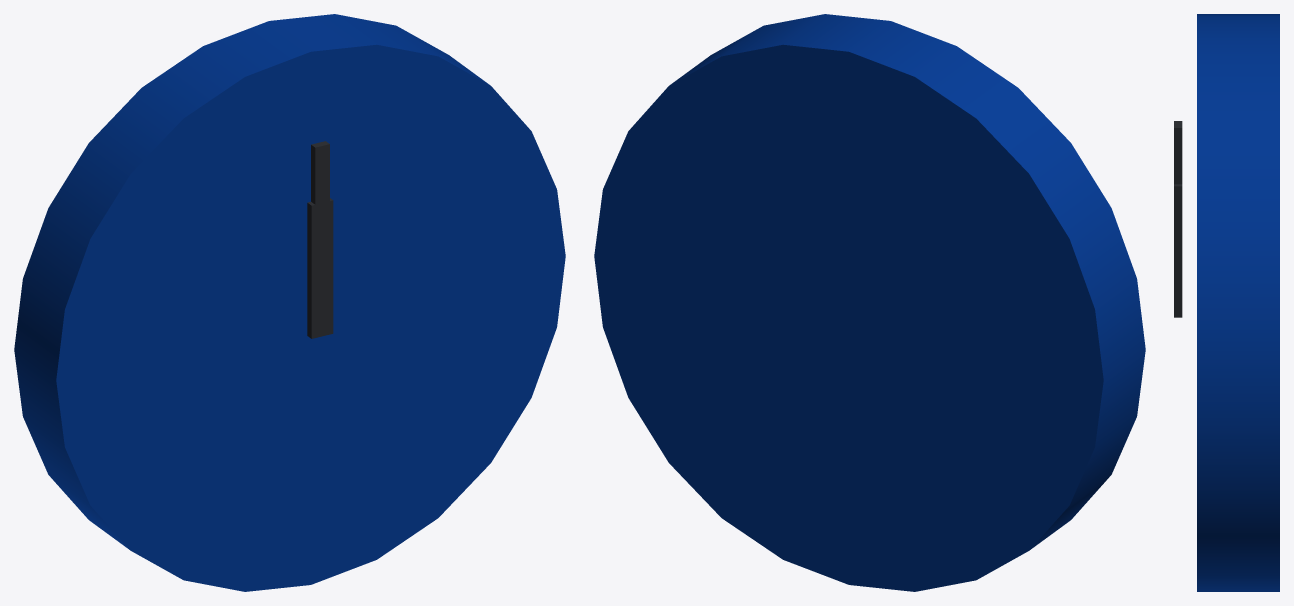
The model's file is SM_Reloj.fbx.
3 views of the same model, side by side, from view 1: azimuth 30°, elevation 25°; view 2: azimuth 150°, elevation 25°; view 3: azimuth 270°, elevation 25° (orthographic).
Visible parts, largest first — view 1: SM_Reloj, SM_Reloj_Aguja_Hora, SM_Reloj_Aguja_Minutos; view 2: SM_Reloj; view 3: SM_Reloj, SM_Reloj_Aguja_Hora, SM_Reloj_Aguja_Minutos.
Boxes of the visible parts, x1,y1,x2,y2 form: SM_Reloj: [14, 14, 565, 591]; SM_Reloj_Aguja_Hora: [307, 198, 333, 338]; SM_Reloj_Aguja_Minutos: [311, 141, 329, 337]; SM_Reloj: [594, 14, 1145, 591]; SM_Reloj: [1197, 14, 1279, 591]; SM_Reloj_Aguja_Hora: [1174, 184, 1182, 317]; SM_Reloj_Aguja_Minutos: [1174, 121, 1182, 184].
Bounding box in the file's own units: 0.28 × 0.28 × 0.051.
